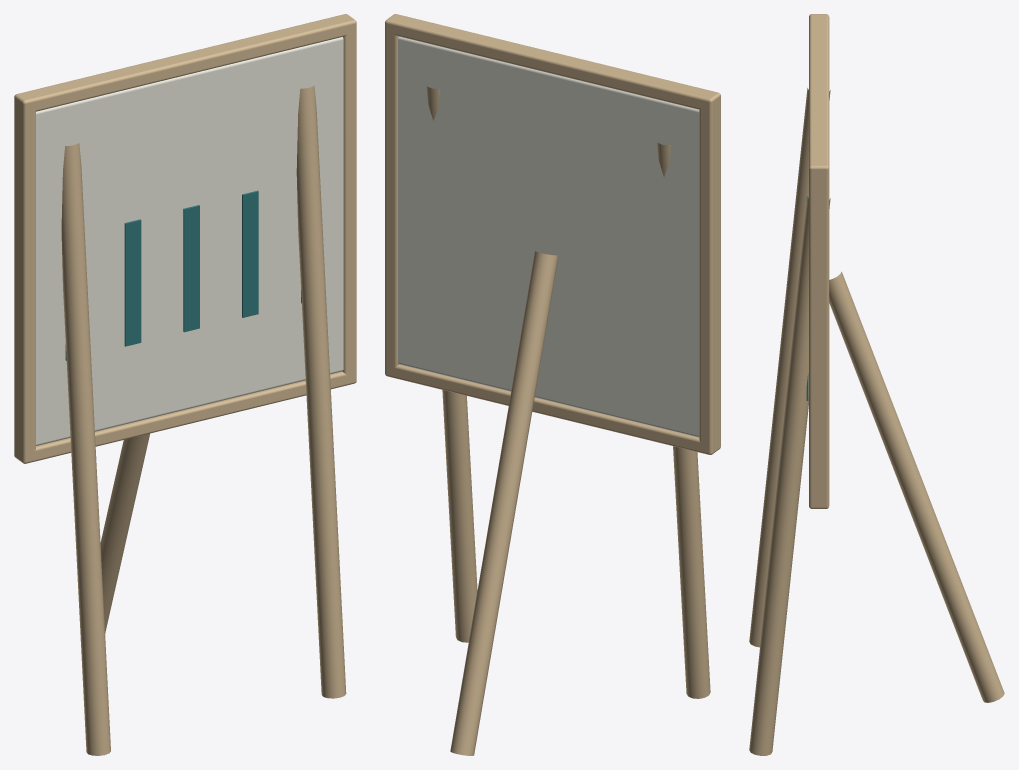
File: tabletop-hobby-store-and-club-campaign-map-easel-a4c576f8__31611.glb
3 views of the same model, side by side, from view 1: azimuth 30°, elevation 25°; view 2: azimuth 150°, elevation 25°; view 3: azimuth 270°, elevation 25° (orthographic). The views are drawn at different scales.
Parts seen in each view (by area): view 1: campaign-map-easel; view 2: campaign-map-easel; view 3: campaign-map-easel.
Part boxes in pixels (x1,y1,x2,y2): campaign-map-easel: [14, 14, 356, 755]; campaign-map-easel: [385, 14, 720, 755]; campaign-map-easel: [749, 14, 1004, 755].
Size of the model in its own units: 0.625 by 1.16 by 0.4387.
